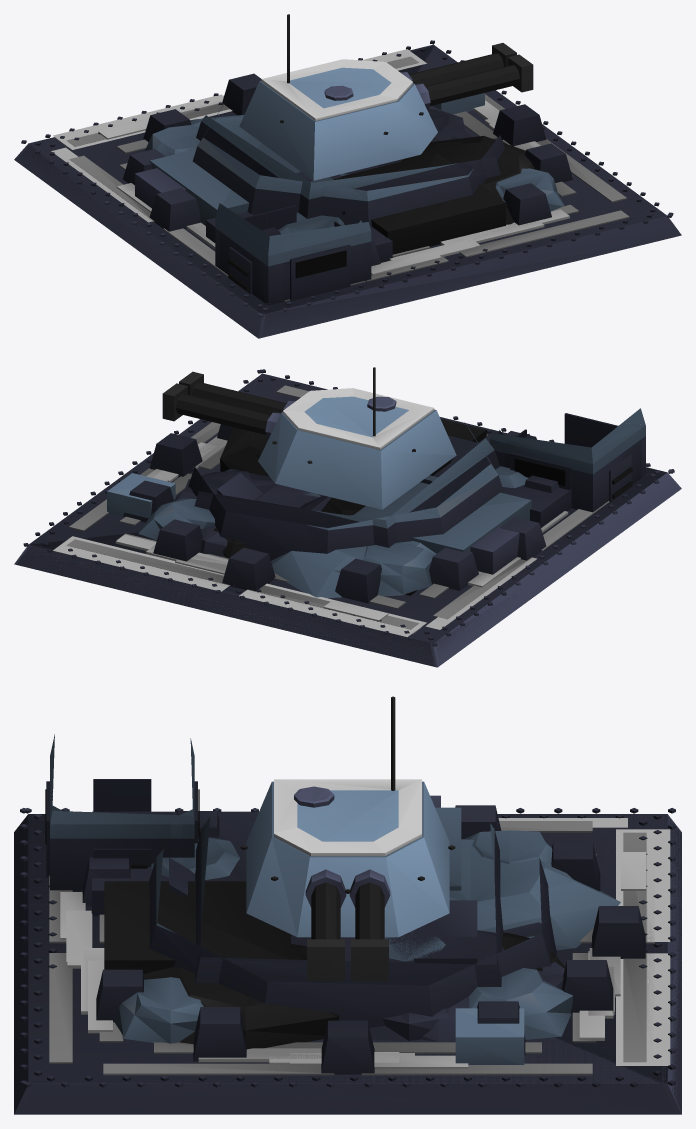
The model's file is veyran_advanced_defences_heavily_damaged.glb.
The picture shows the model from 3 angles, top to bottom: view 1: azimuth 30°, elevation 25°; view 2: azimuth 150°, elevation 25°; view 3: azimuth 270°, elevation 25°; orthographic projection. The views are drawn at different scales.
Parts seen in each view (by area): view 1: body (×3), turret, barrel; view 2: body (×3), turret, barrel; view 3: body (×3), turret, barrel.
Part boxes in pixels (x1,y1,x2,y2): body (×3): (14,40,681,338); turret: (239,14,437,180); barrel: (400,43,533,110); body (×3): (14,369,681,667); turret: (258,367,456,509); barrel: (162,371,295,439); body (×3): (14,734,681,1114); turret: (240,696,455,937); barrel: (305,869,390,981).
Size of the model in its own units: 7.4 by 3.02 by 7.4.
